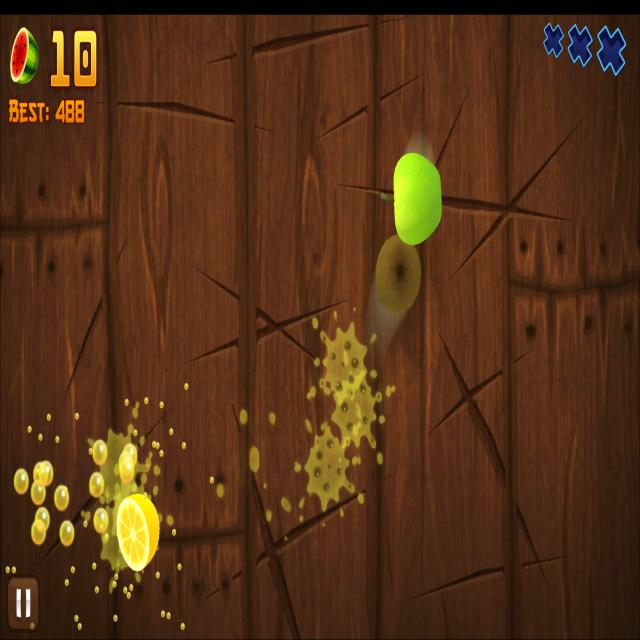fruit: (389, 150, 443, 247), (376, 237, 422, 312)
